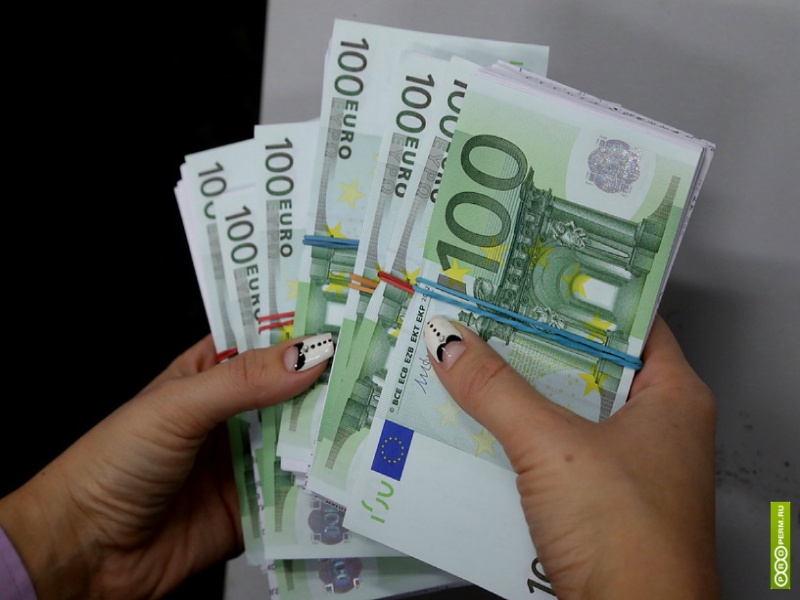cash: (174, 19, 715, 600)
